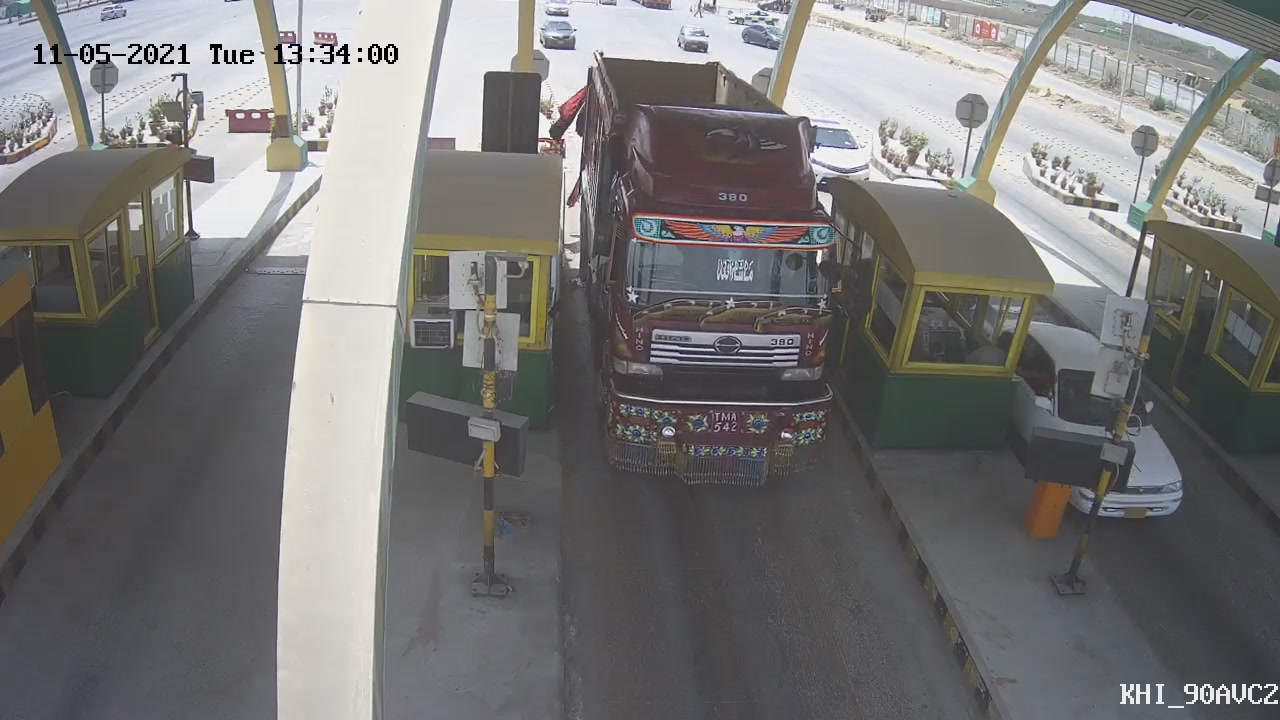F5: (574, 48, 846, 487)
